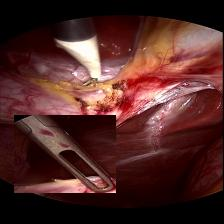Grasper: (14, 114, 116, 192)
Hook: (52, 33, 108, 87)
